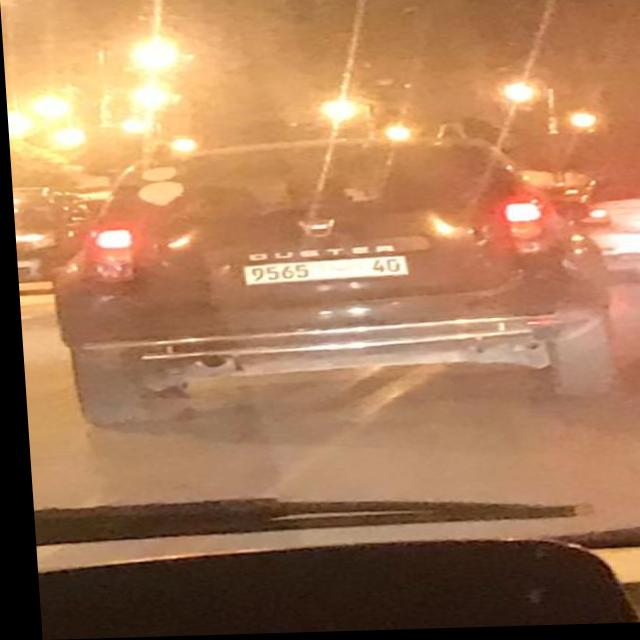License-Plate: (239, 257, 404, 286)
